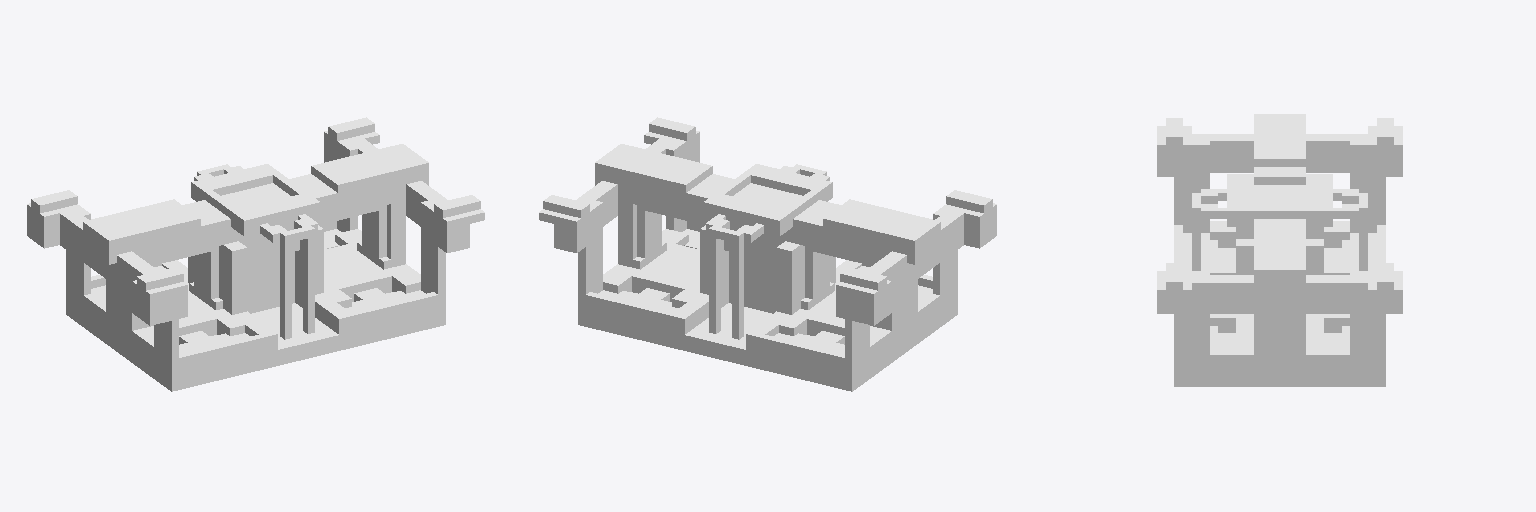
File: boss_loader_body.obj
The picture shows the model from 3 angles: view 1: azimuth 30°, elevation 25°; view 2: azimuth 150°, elevation 25°; view 3: azimuth 270°, elevation 25°; orthographic projection.
Visible parts, largest first — view 1: object 1; view 2: object 1; view 3: object 1.
Part boxes in pixels (left/top/right/bottom): object 1: left=27, top=117, right=484, bottom=391; object 1: left=539, top=117, right=996, bottom=391; object 1: left=1157, top=114, right=1402, bottom=386.
Bounding box in the file's own units: 4.4 × 1.6 × 2.8.